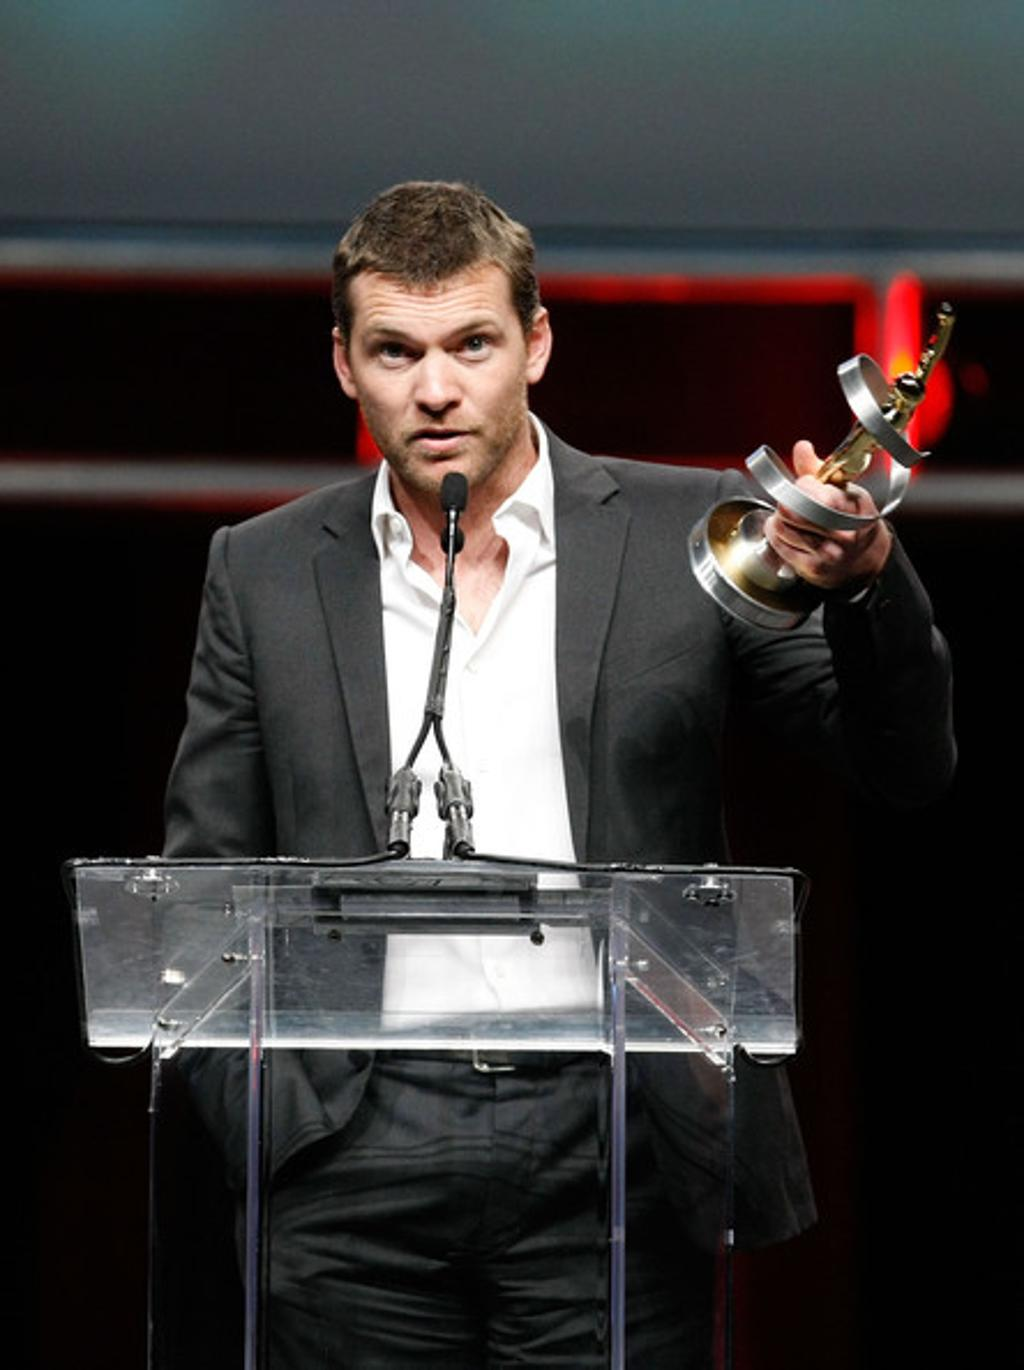face: (348, 249, 527, 498)
